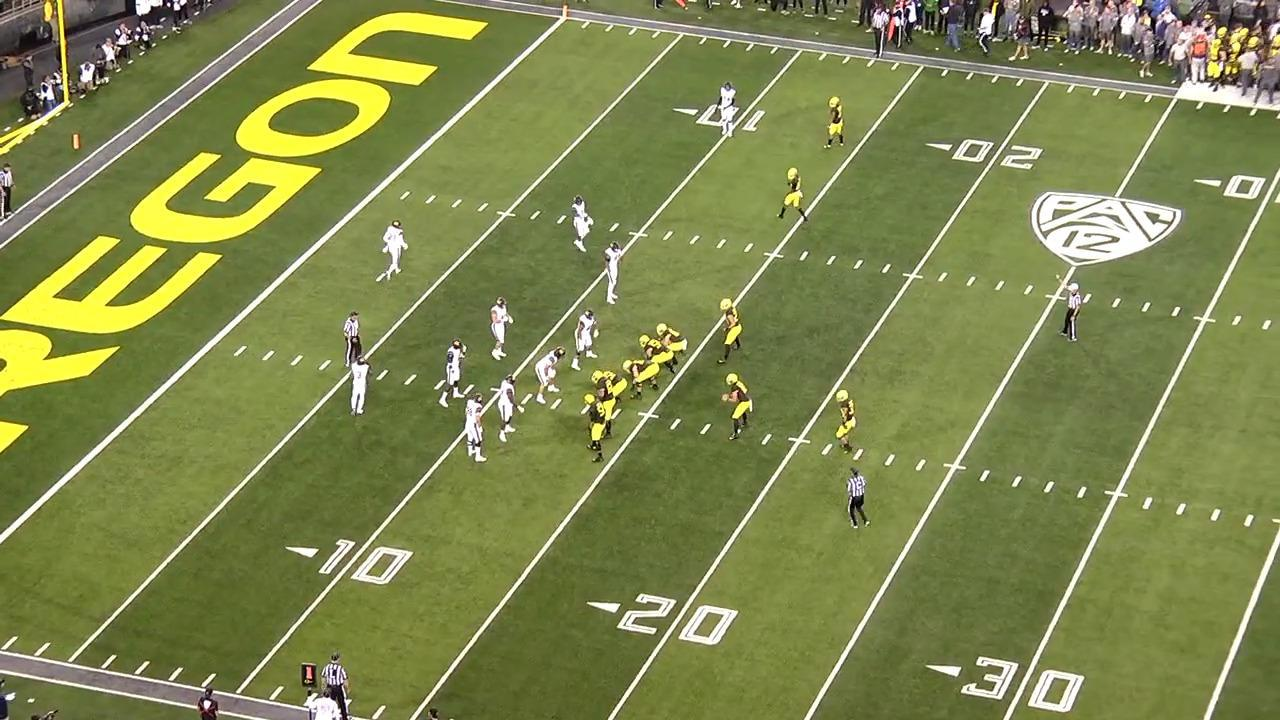defense: (434, 338, 467, 408), (462, 393, 493, 466), (375, 218, 408, 284), (533, 346, 568, 407), (492, 373, 521, 446), (569, 308, 600, 372), (488, 295, 515, 364), (564, 195, 593, 257), (714, 81, 742, 142), (352, 355, 377, 419), (604, 241, 627, 308)
oline: (622, 356, 661, 401), (593, 369, 616, 440), (583, 392, 605, 465), (640, 334, 676, 375), (599, 367, 626, 399)
qb: (720, 372, 752, 443)
ref: (319, 650, 357, 720), (1057, 273, 1087, 348), (844, 468, 870, 533), (343, 310, 367, 376), (0, 163, 19, 223)
skill: (832, 388, 863, 459), (776, 166, 810, 228), (714, 295, 744, 365), (823, 94, 851, 151), (657, 322, 689, 357)
